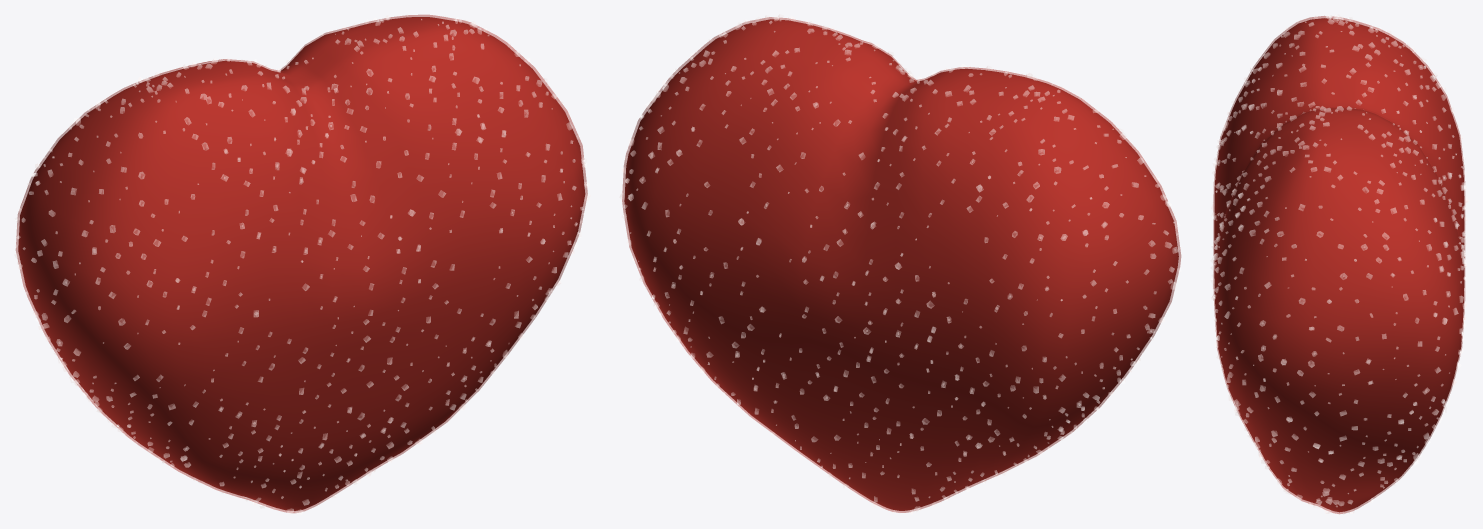
The model's file is 軟糖三.glb.
3 renders of one model, left to right at view 1: azimuth 30°, elevation 25°; view 2: azimuth 150°, elevation 25°; view 3: azimuth 270°, elevation 25°, orthographic. The views are drawn at different scales.
Parts seen in each view (by area): view 1: Cube, Cube.001; view 2: Cube, Cube.001; view 3: Cube.001, Cube.
Boxes of the visible parts, x1=… form: Cube: x1=16, y1=15, x2=587, y2=512; Cube.001: x1=18, y1=17, x2=585, y2=510; Cube: x1=622, y1=17, x2=1180, y2=512; Cube.001: x1=624, y1=19, x2=1178, y2=510; Cube.001: x1=1214, y1=18, x2=1464, y2=512; Cube: x1=1213, y1=16, x2=1464, y2=513.
Bounding box in the file's own units: 2.14 × 1.8 × 0.9748.
